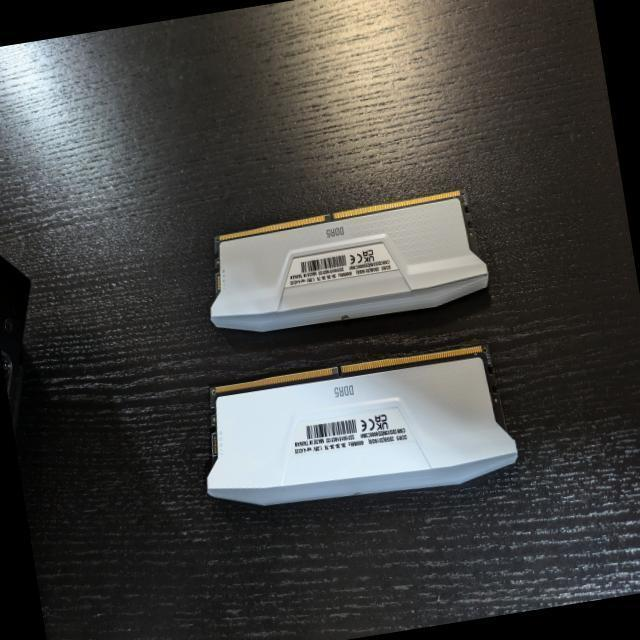RAM: (190, 340, 524, 528), (196, 186, 494, 342)
